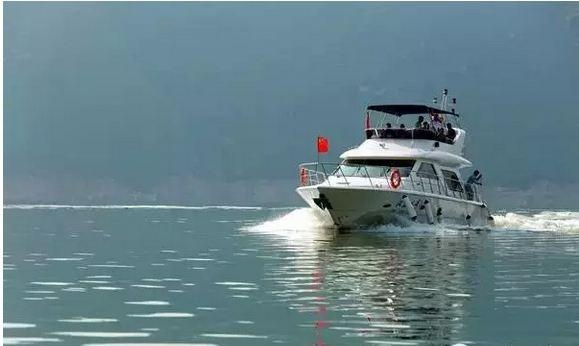yacht: (298, 89, 496, 234)
